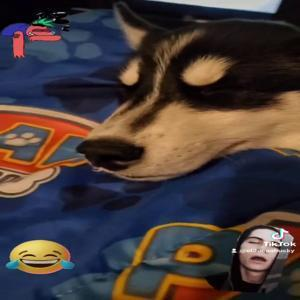nasal_discharge: (82, 152, 105, 175)
